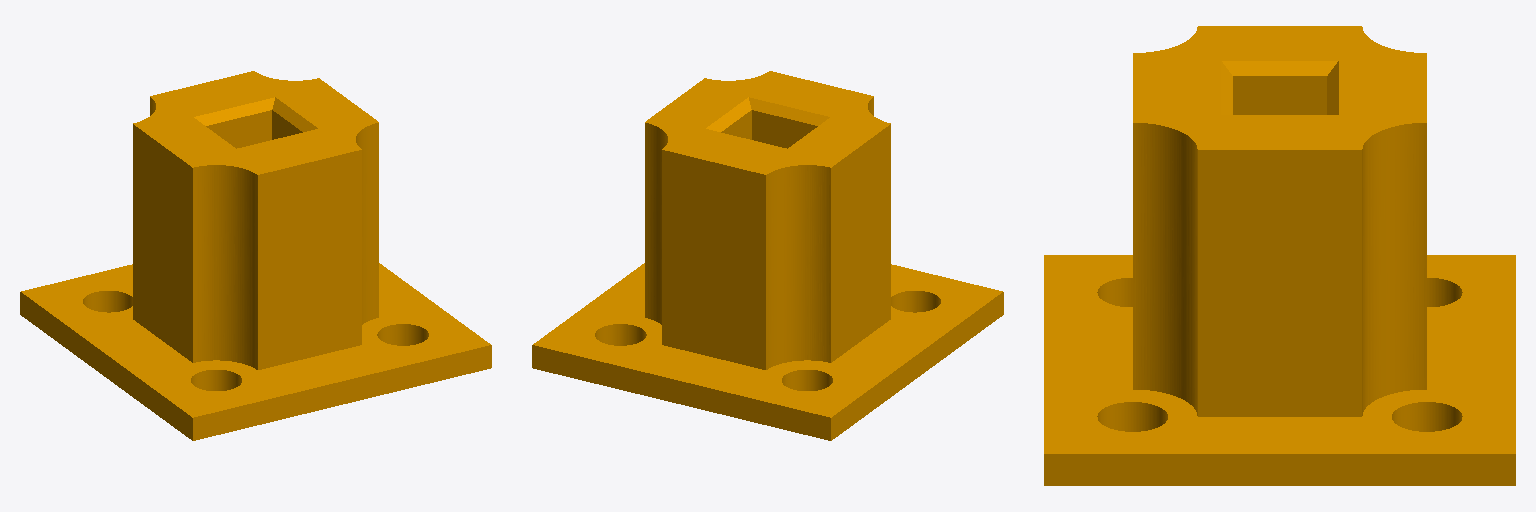
The robot description file, URDF, robot "industreal_tray_insert_rectangular_peg_8mm":
<?xml version="1.0"?>
<robot name="industreal_tray_insert_rectangular_peg_8mm">
    <link name="industreal_tray_insert_rectangular_peg_8mm">
        <visual>
            <geometry>
                <mesh filename="../mesh/industreal_pegs/industreal_tray_insert_rectangular_peg_8mm.obj"/>
            </geometry>
        </visual>
        <collision>
            <geometry>
                <mesh filename="../mesh/industreal_pegs/industreal_tray_insert_rectangular_peg_8mm.obj"/>
            </geometry>
            <sdf resolution="256"/>
        </collision>
    </link>
</robot>

--- Facts derived from the render (not from the file) ---
The picture shows the robot from 3 angles, left to right: view 1: azimuth 30°, elevation 25°; view 2: azimuth 150°, elevation 25°; view 3: azimuth 270°, elevation 25°; orthographic projection.
Robot: industreal_tray_insert_rectangular_peg_8mm — 1 links, 0 joints (none); root link industreal_tray_insert_rectangular_peg_8mm; default pose: every joint at zero.
Links seen in each view (by area): view 1: industreal_tray_insert_rectangular_peg_8mm; view 2: industreal_tray_insert_rectangular_peg_8mm; view 3: industreal_tray_insert_rectangular_peg_8mm.
Boxes of the visible links, bbox=[...] form: industreal_tray_insert_rectangular_peg_8mm: bbox=[20, 71, 491, 440]; industreal_tray_insert_rectangular_peg_8mm: bbox=[532, 71, 1003, 440]; industreal_tray_insert_rectangular_peg_8mm: bbox=[1044, 26, 1515, 485].
Bounding box of the posed robot: 0.04 × 0.04 × 0.028 m (x, y, z).
1 mesh visuals loaded from 1 distinct referenced files (1 OBJ).